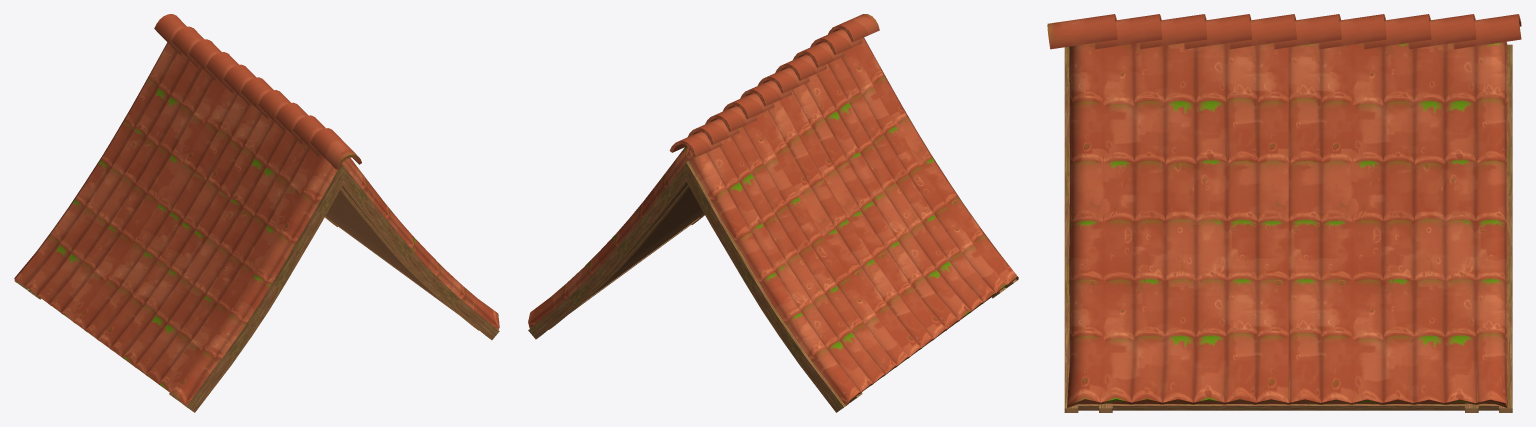
Rendered from Roof_RoundTiles_6x6.glb.
The picture shows the model from 3 angles, left to right: view 1: azimuth 30°, elevation 25°; view 2: azimuth 150°, elevation 25°; view 3: azimuth 270°, elevation 25°; orthographic projection. The views are drawn at different scales.
Visible parts, largest first — view 1: Roof_RoundTiles_6x6; view 2: Roof_RoundTiles_6x6; view 3: Roof_RoundTiles_6x6.
Boxes of the visible parts, left/top/right/bottom form: Roof_RoundTiles_6x6: left=14, top=14, right=499, bottom=412; Roof_RoundTiles_6x6: left=528, top=14, right=1018, bottom=412; Roof_RoundTiles_6x6: left=1047, top=14, right=1521, bottom=412.
Size of the model in its own units: 8.25 by 5.67 by 8.03.
Materials: 2 (2 with a texture image).
